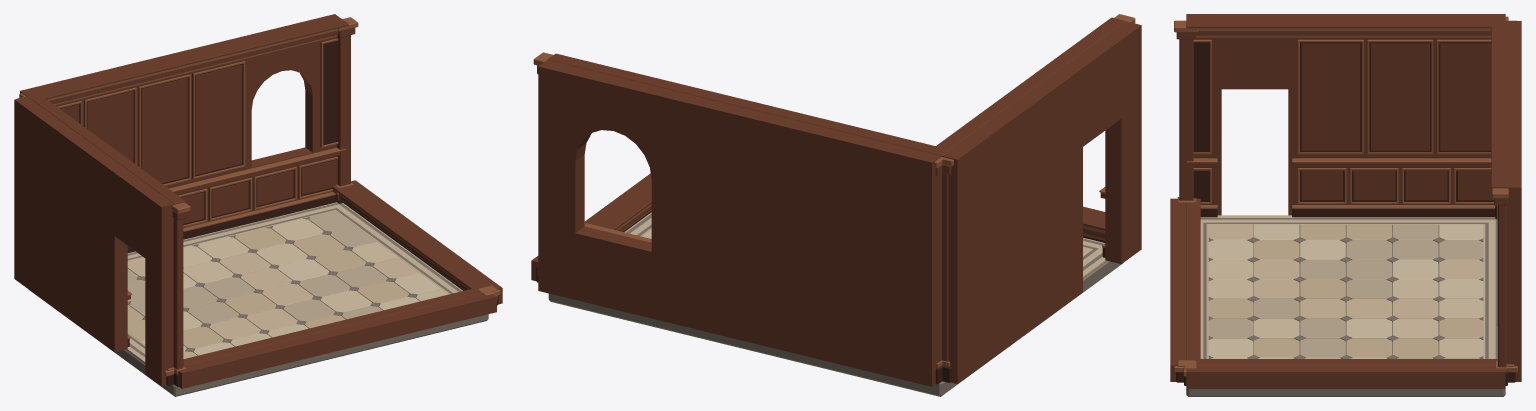
Rendered from bp_architecture.glb.
The picture shows the model from 3 angles, left to right: view 1: azimuth 30°, elevation 25°; view 2: azimuth 150°, elevation 25°; view 3: azimuth 270°, elevation 25°; orthographic projection. The views are drawn at different scales.
Visible parts, largest first — view 1: B_P_left_Wall_Solid_00, B_P_Floor, B_P_rear_Wall_Solid_00, B_P_front_Cutedge_Solid_00, B_P_rear_Wall_UpperPanel_00_0_3_Field, B_P_rear_Wall_UpperPanel_00_0_2_Field, B_P_rear_Wall_Cornice_00_3_0, B_P_Floor_Foundation, B_P_rear_Wall_UpperPanel_00_0_1_Field, B_P_front_Cutedge_Cornice_00_3_0, Pilaster_Shaft_001, B_P_right_Cutedge_Solid_00 (+19 smaller); view 2: B_P_rear_Wall_Solid_00, B_P_left_Wall_Solid_00, B_P_Floor_Foundation, B_P_rear_Wall_Cornice_00_3_0, B_P_left_Wall_Cornice_00_3_0, Pilaster_Shaft, B_P_right_Cutedge_Solid_00, B_P_Floor, Pilaster_Shaft_003, B_P_right_Cutedge_Cornice_00_3_0; view 3: B_P_Floor, B_P_left_Wall_Solid_00, B_P_right_Cutedge_Solid_00, B_P_left_Wall_UpperPanel_00_1_0_Field, B_P_left_Wall_UpperPanel_00_1_1_Field, B_P_rear_Wall_Solid_00, B_P_left_Wall_UpperPanel_00_1_2_Field, B_P_front_Cutedge_Solid_00, B_P_left_Wall_Cornice_00_3_0, B_P_Floor_Foundation, B_P_rear_Wall_Cornice_00_3_0, B_P_front_Cutedge_Cornice_00_3_0 (+27 smaller).
Part boxes in pixels (x1,y1,x2,y2): B_P_left_Wall_Solid_00: [14, 96, 174, 386]; B_P_Floor: [126, 202, 462, 362]; B_P_rear_Wall_Solid_00: [20, 14, 341, 227]; B_P_front_Cutedge_Solid_00: [178, 293, 496, 388]; B_P_rear_Wall_UpperPanel_00_0_3_Field: [196, 65, 241, 174]; B_P_rear_Wall_UpperPanel_00_0_2_Field: [141, 78, 187, 183]; B_P_rear_Wall_Cornice_00_3_0: [28, 19, 348, 100]; B_P_Floor_Foundation: [29, 290, 488, 396]; B_P_rear_Wall_UpperPanel_00_0_1_Field: [87, 91, 133, 162]; B_P_front_Cutedge_Cornice_00_3_0: [183, 286, 483, 365]; Pilaster_Shaft_001: [336, 35, 350, 186]; B_P_right_Cutedge_Solid_00: [347, 180, 502, 304]; B_P_rear_Wall_Solid_00: [538, 60, 941, 386]; B_P_left_Wall_Solid_00: [941, 21, 1141, 383]; B_P_Floor_Foundation: [548, 261, 1122, 396]; B_P_rear_Wall_Cornice_00_3_0: [547, 53, 947, 155]; B_P_left_Wall_Cornice_00_3_0: [928, 17, 1125, 155]; Pilaster_Shaft: [942, 173, 948, 361]; B_P_right_Cutedge_Solid_00: [531, 173, 651, 280]; B_P_Floor: [624, 212, 1106, 277]; Pilaster_Shaft_003: [937, 173, 941, 362]; B_P_right_Cutedge_Cornice_00_3_0: [600, 188, 651, 229]; B_P_Floor: [1200, 215, 1497, 358]; B_P_left_Wall_Solid_00: [1186, 14, 1505, 215]; B_P_right_Cutedge_Solid_00: [1186, 365, 1505, 388]; B_P_left_Wall_UpperPanel_00_1_0_Field: [1301, 43, 1360, 150]; B_P_left_Wall_UpperPanel_00_1_1_Field: [1371, 43, 1429, 150]; B_P_rear_Wall_Solid_00: [1505, 21, 1521, 381]; B_P_left_Wall_UpperPanel_00_1_2_Field: [1440, 43, 1491, 150]; B_P_front_Cutedge_Solid_00: [1170, 198, 1186, 381]; B_P_left_Wall_Cornice_00_3_0: [1186, 20, 1505, 28]; B_P_Floor_Foundation: [1186, 389, 1505, 396]; B_P_rear_Wall_Cornice_00_3_0: [1491, 21, 1505, 188]; B_P_front_Cutedge_Cornice_00_3_0: [1186, 198, 1200, 364].
Size of the model in its own units: 7.36 by 4.01 by 6.06.
